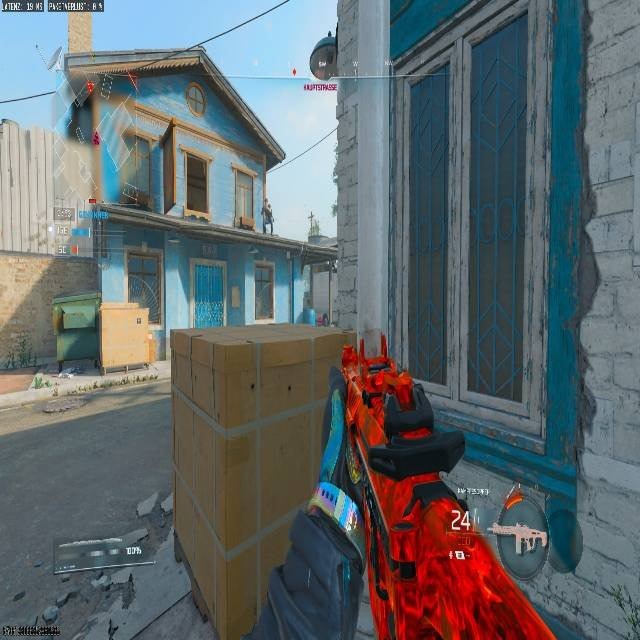player: (260, 203, 273, 235), (316, 312, 327, 326)
